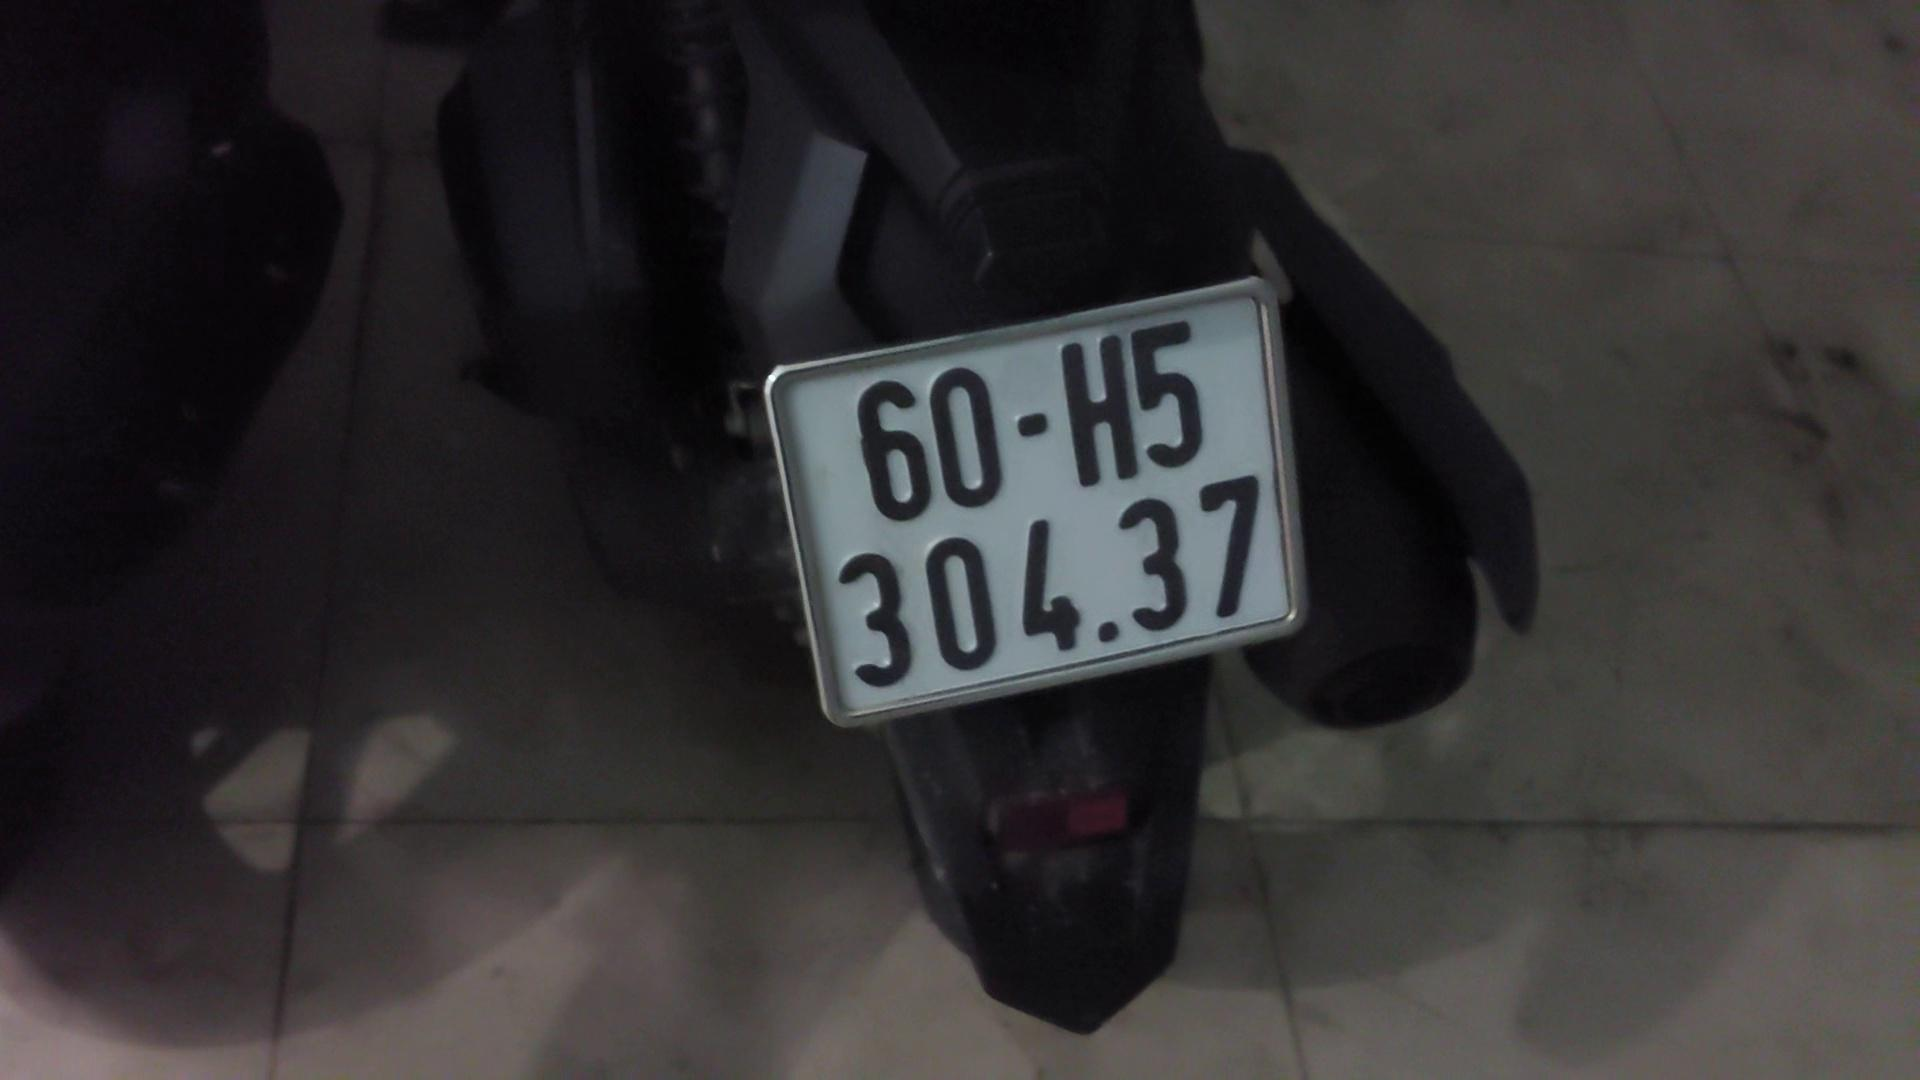numplate: (787, 293, 1300, 720)
